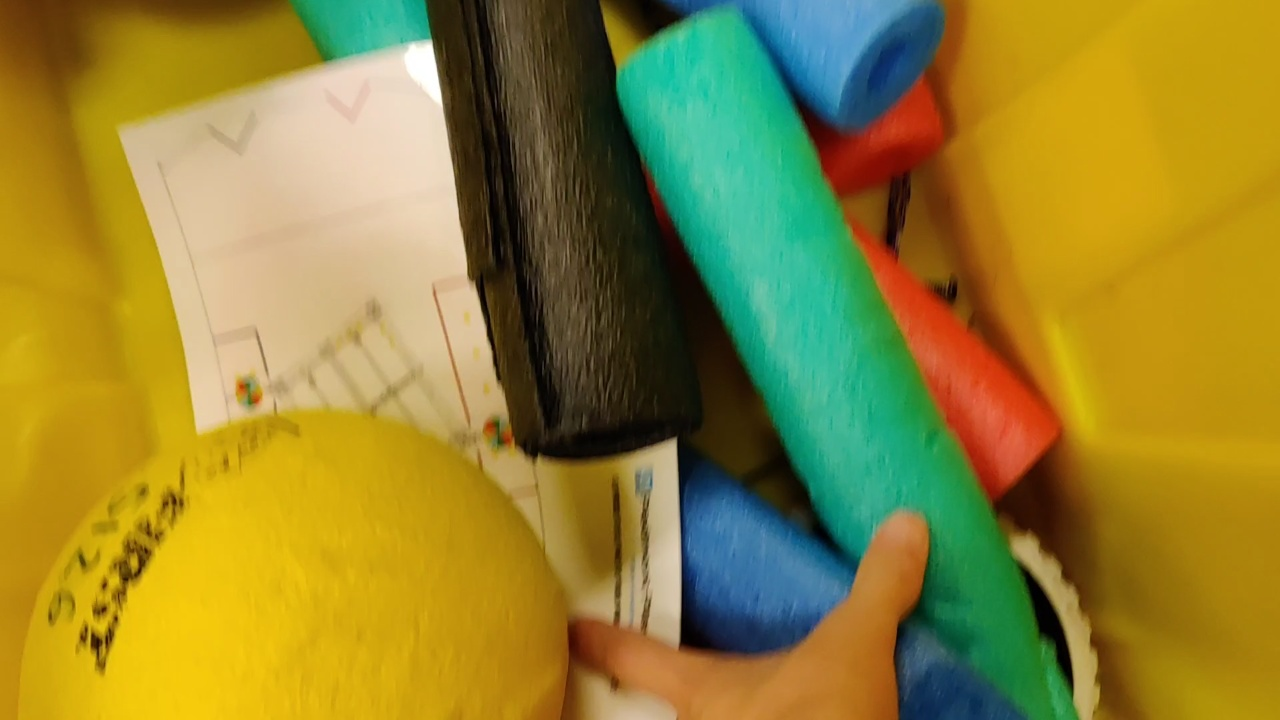Ball: (13, 407, 572, 717)
